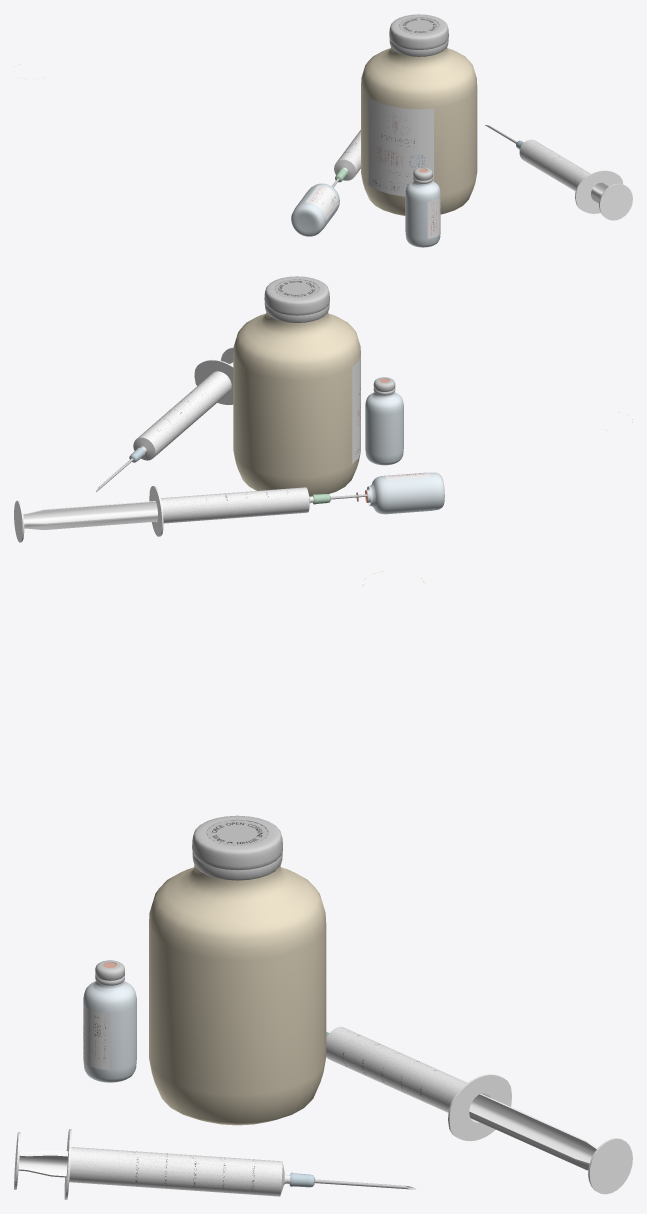
3 views of the same model, one above another, from view 1: azimuth 30°, elevation 25°; view 2: azimuth 150°, elevation 25°; view 3: azimuth 270°, elevation 25° (orthographic). The views are drawn at different scales.
Parts seen in each view (by area): view 1: SketchUp.033, SketchUp.036, SketchUp.050, SketchUp.008, SketchUp.026, SketchUp.025, SketchUp, SketchUp.021, SketchUp.003, SketchUp.057, SketchUp.052, SketchUp.041; view 2: SketchUp.033, SketchUp.041, SketchUp.013, SketchUp.050, SketchUp.026, SketchUp, SketchUp.008, SketchUp.036, SketchUp.025, SketchUp.057, SketchUp.042; view 3: SketchUp.033, SketchUp.026, SketchUp.041, SketchUp.008, SketchUp.050, SketchUp.013, SketchUp.042, SketchUp.014, SketchUp.052, SketchUp.057, SketchUp.020.
Part boxes in pixels (x1=…): SketchUp.033: x1=361, y1=47, x2=477, y2=215; SketchUp.036: x1=368, y1=97, x2=433, y2=196; SketchUp.050: x1=405, y1=181, x2=440, y2=247; SketchUp.008: x1=389, y1=14, x2=448, y2=56; SketchUp.026: x1=519, y1=139, x2=590, y2=191; SketchUp.025: x1=575, y1=170, x2=623, y2=213; SketchUp: x1=291, y1=183, x2=339, y2=236; SketchUp.021: x1=599, y1=183, x2=632, y2=220; SketchUp.003: x1=305, y1=185, x2=338, y2=220; SketchUp.057: x1=399, y1=17, x2=439, y2=34; SketchUp.052: x1=427, y1=195, x2=440, y2=238; SketchUp.041: x1=336, y1=130, x2=360, y2=175; SketchUp.033: x1=233, y1=312, x2=360, y2=496; SketchUp.041: x1=160, y1=487, x2=309, y2=523; SketchUp.013: x1=23, y1=501, x2=157, y2=530; SketchUp.050: x1=365, y1=392, x2=403, y2=465; SketchUp.026: x1=137, y1=371, x2=231, y2=457; SketchUp: x1=367, y1=472, x2=444, y2=514; SketchUp.008: x1=264, y1=276, x2=329, y2=322; SketchUp.036: x1=352, y1=354, x2=360, y2=463; SketchUp.025: x1=194, y1=359, x2=233, y2=404; SketchUp.057: x1=275, y1=279, x2=319, y2=298; SketchUp.042: x1=149, y1=486, x2=163, y2=536; SketchUp.033: x1=149, y1=865, x2=326, y2=1125; SketchUp.026: x1=69, y1=1147, x2=282, y2=1196; SketchUp.041: x1=326, y1=1026, x2=467, y2=1112; SketchUp.008: x1=192, y1=815, x2=282, y2=880; SketchUp.050: x1=83, y1=981, x2=136, y2=1082; SketchUp.013: x1=469, y1=1094, x2=597, y2=1170; SketchUp.042: x1=448, y1=1074, x2=511, y2=1141; SketchUp.014: x1=588, y1=1138, x2=632, y2=1194; SketchUp.052: x1=83, y1=1003, x2=109, y2=1069; SketchUp.057: x1=206, y1=820, x2=268, y2=845; SketchUp.020: x1=18, y1=1150, x2=68, y2=1177.
Bounding box in the file's own units: 0.3986 × 0.134 × 0.2789.
17 materials, 6 textured.
